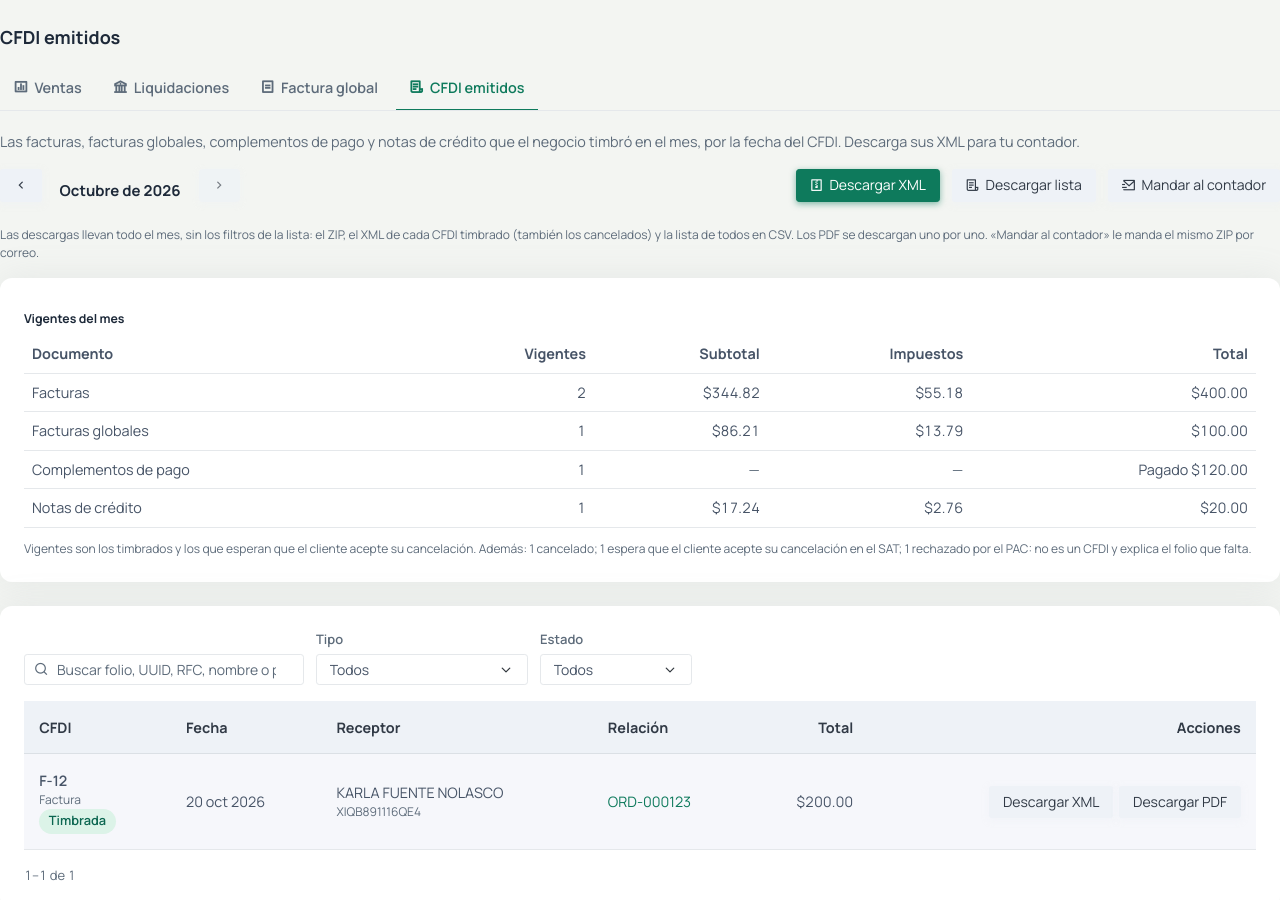
IssuedCfdis › says when the filters leave nothing, and offers no download of a month without CFDI
Expected: the text "F-12" is shown, [39,771,67,790]
Select "Notas de crédito" in the dropdown labelled "Tipo". click: x=422, y=669
box: [316,654,528,685]
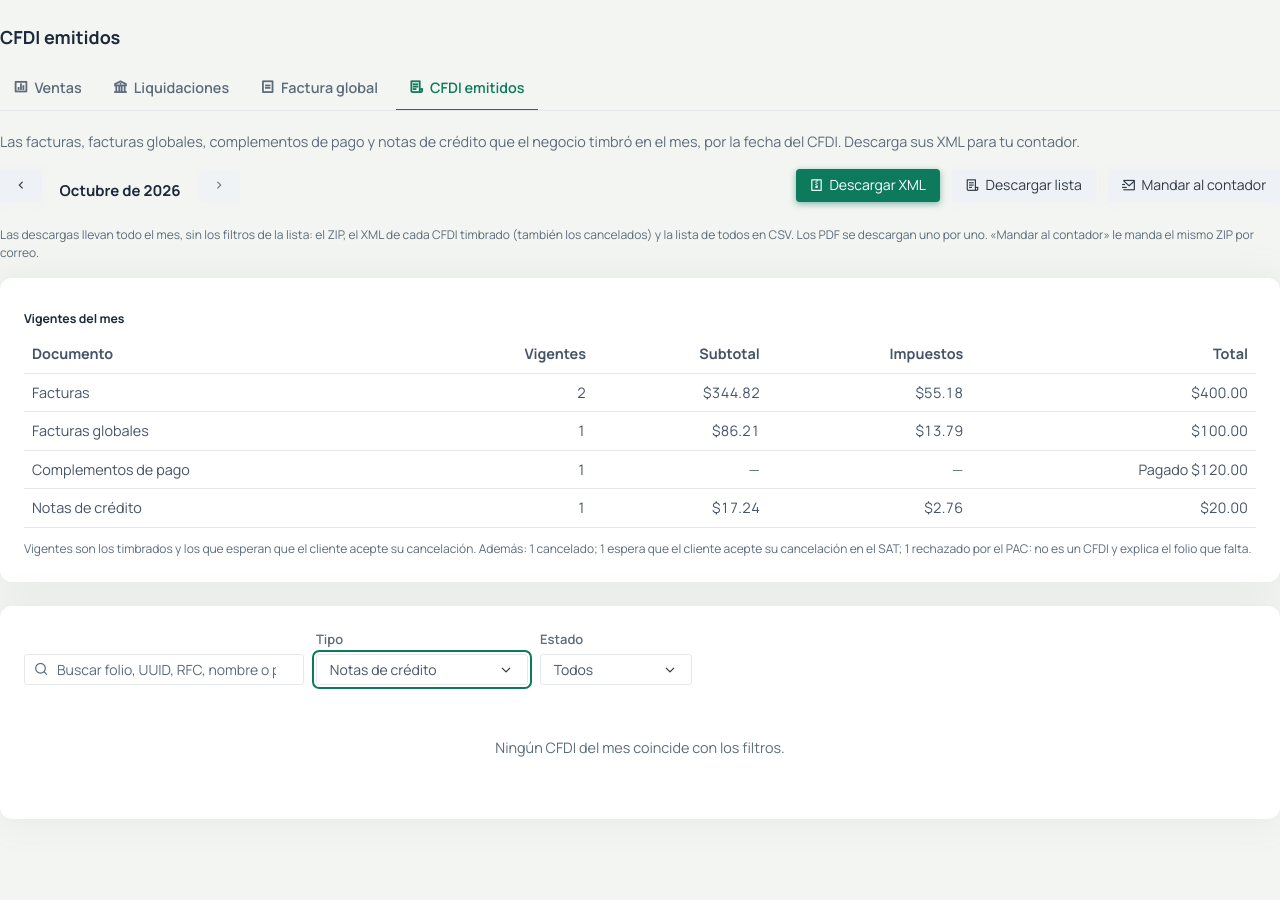
Expected: the button "Descargar XML" is enabled, [796,169,940,202]
Result: the text "Ningún CFDI del mes coincide con los filtros." is shown at [495,738,785,758]
Select "Todos" in the dropdown labelled "Tipo". click: x=422, y=669
box: [316,654,528,685]
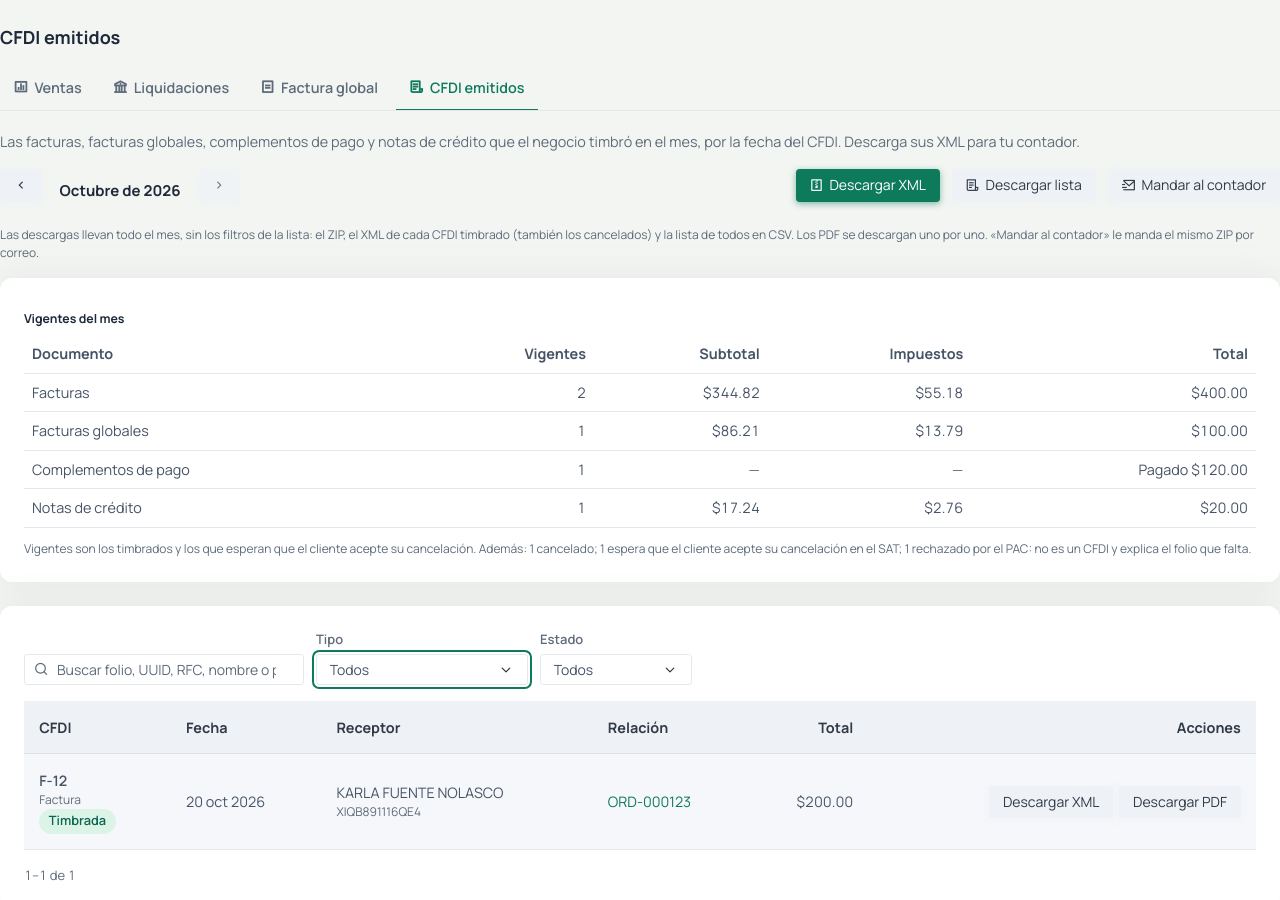
Click the button named "Mes anterior (septiembre de 2026)". click: x=21, y=185
box: [0,169,42,202]
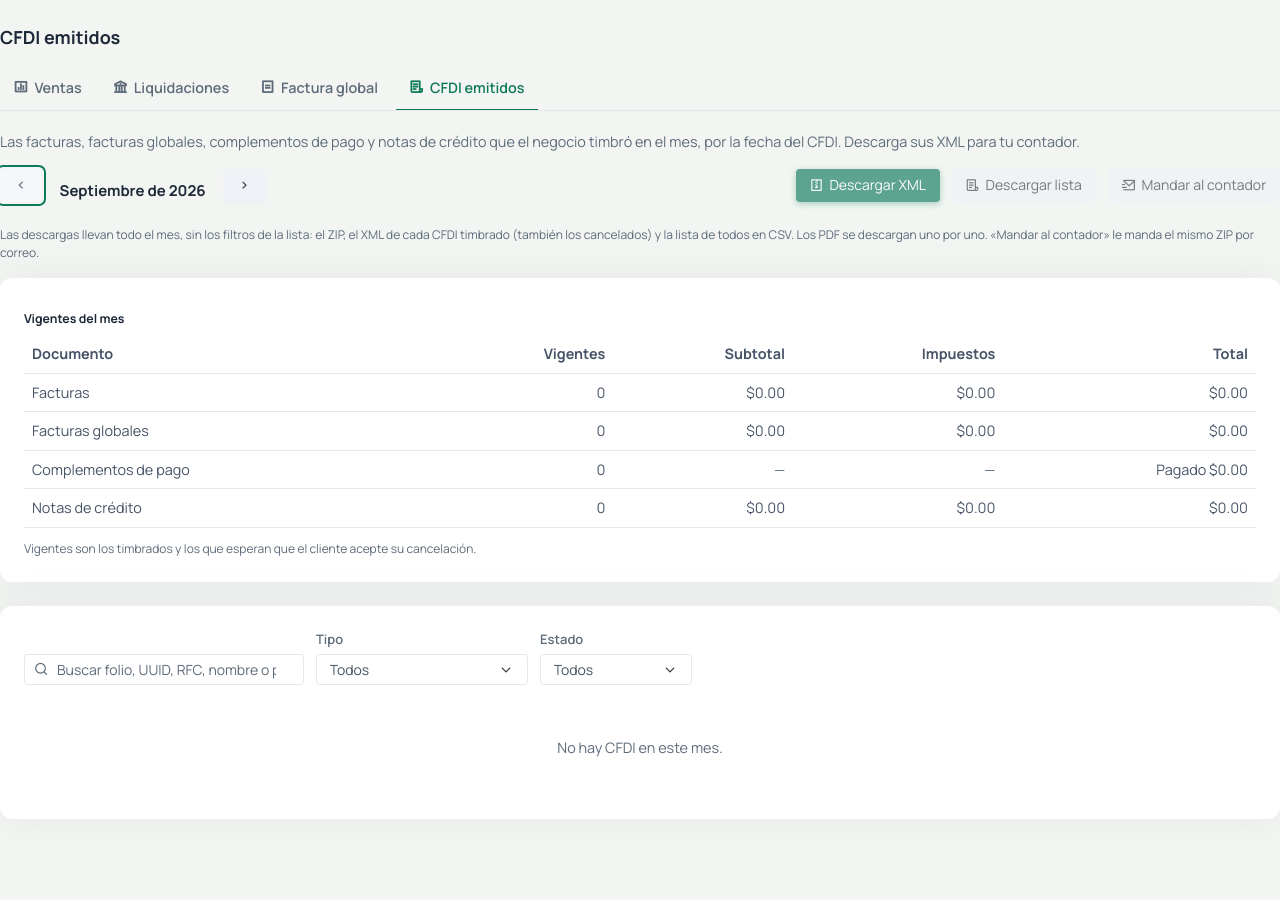
Result: the text "No hay CFDI en este mes." is shown at [557,738,723,758]
Result: the button "Descargar XML" is disabled at [796,169,940,202]
Result: the button "Descargar lista" is disabled at [952,169,1096,202]
